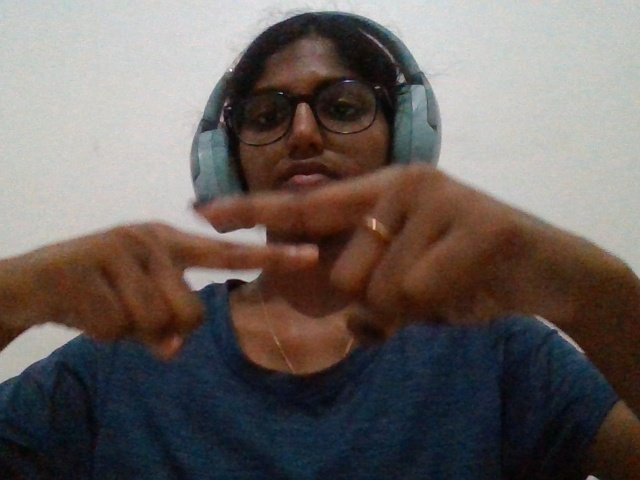Sign: (10, 142, 610, 395)
